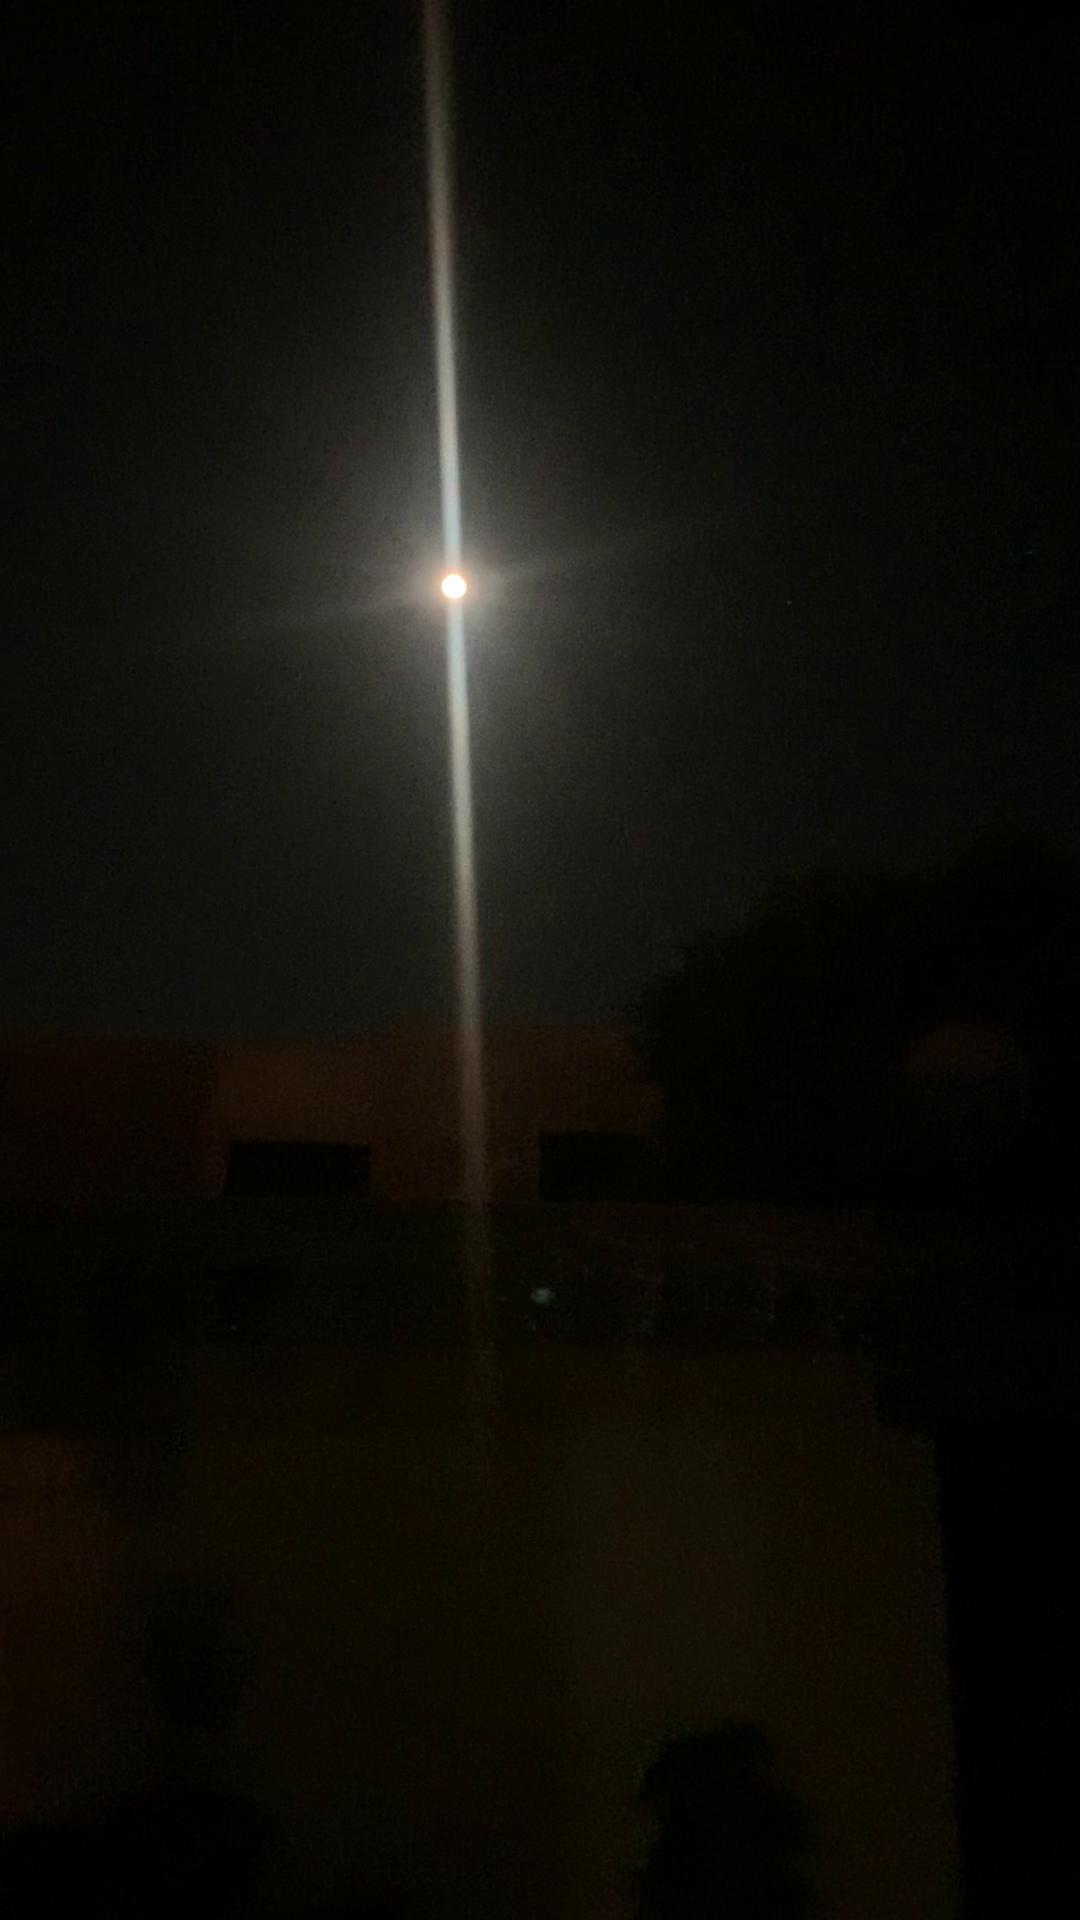moon: (419, 545, 495, 624)
